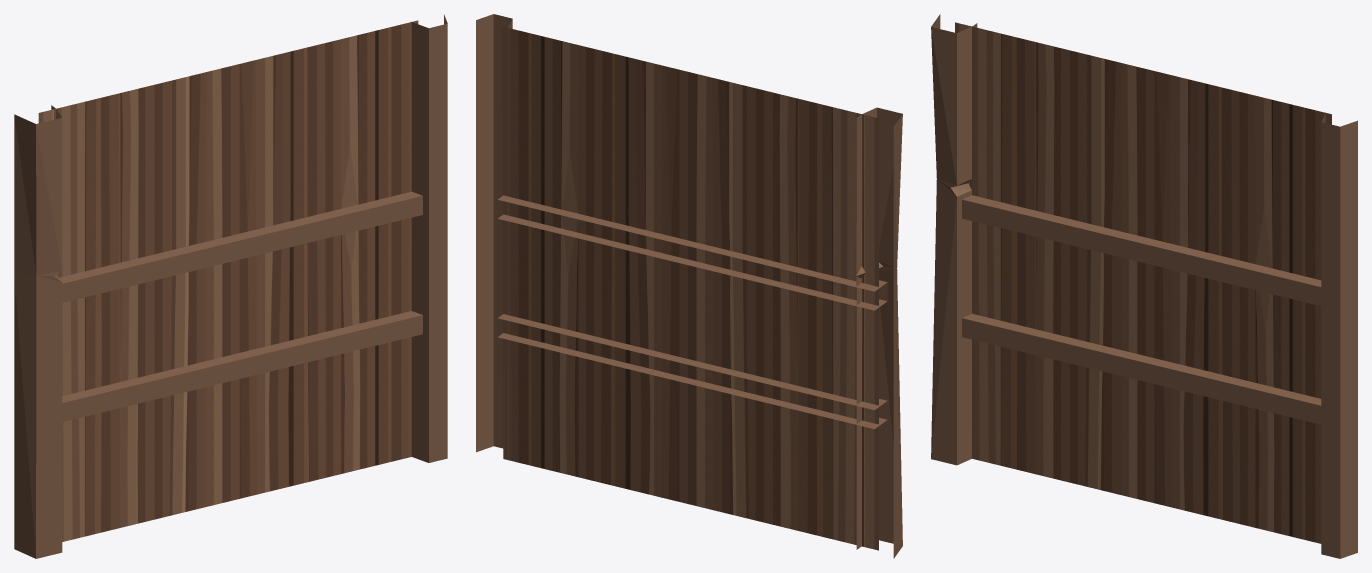
The model's file is BuildingWall_9_1  Asia.fbx.
3 views of the same model, side by side, from view 1: azimuth 30°, elevation 25°; view 2: azimuth 150°, elevation 25°; view 3: azimuth 330°, elevation 25° (orthographic).
Parts seen in each view (by area): view 1: BuildingWall_9_1; view 2: BuildingWall_9_1; view 3: BuildingWall_9_1.
Boxes of the visible parts, x1,y1,x2,y2 form: BuildingWall_9_1: (14, 14, 447, 558); BuildingWall_9_1: (476, 14, 902, 558); BuildingWall_9_1: (931, 14, 1357, 558).
Bounding box in the file's own units: 2 × 1.96 × 0.1357.
